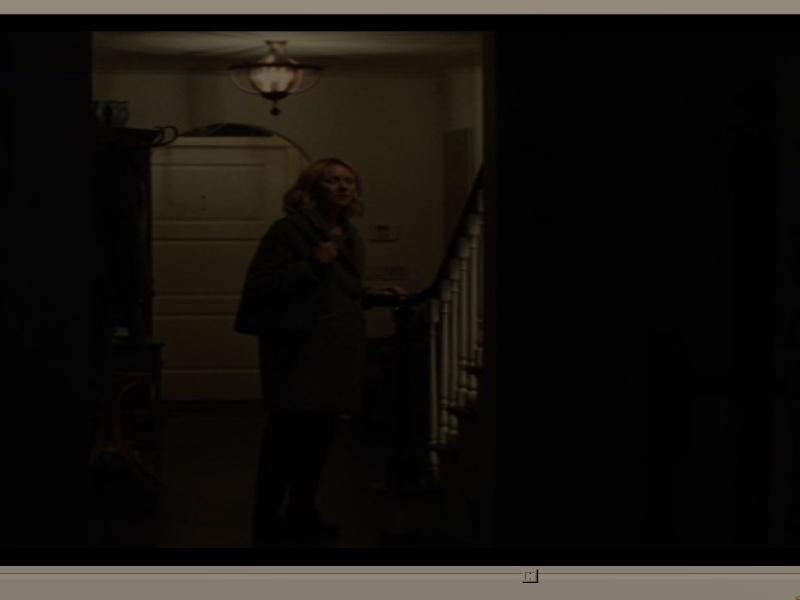TsisyArotava: (295, 148, 375, 229)
